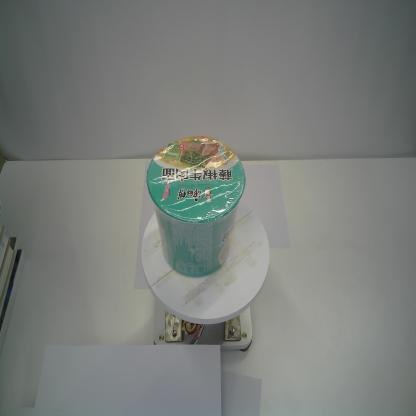Instant Noodles: (146, 134, 247, 278)
